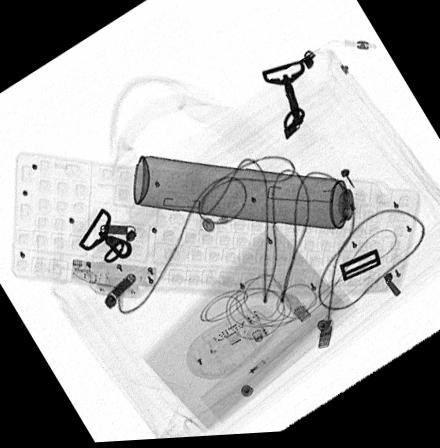Sprayer: (131, 156, 379, 234)
